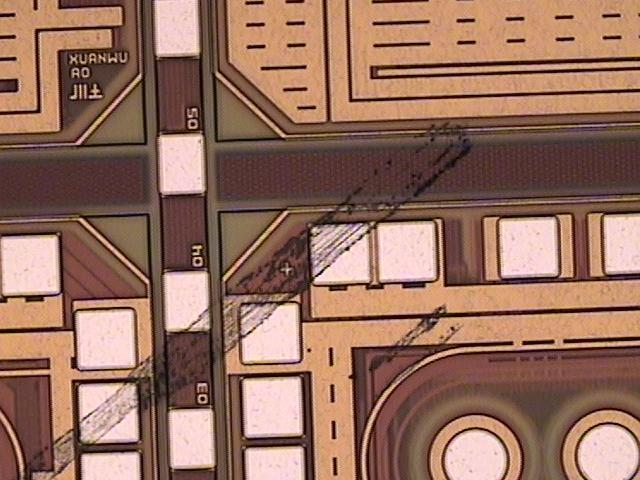SCRATCH: (15, 116, 471, 480)
